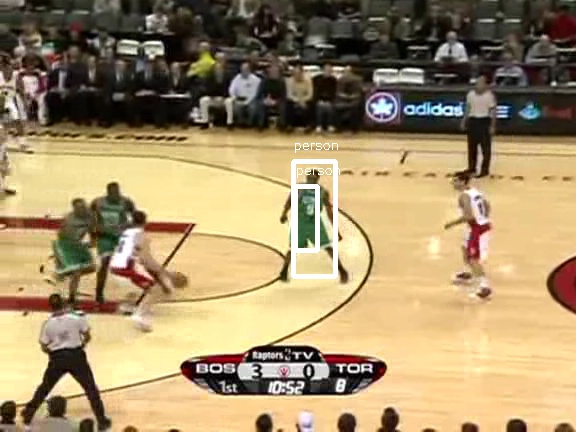person: (293, 178, 327, 259), (292, 178, 326, 259), (294, 178, 328, 259), (293, 177, 327, 258), (293, 179, 327, 260)
target_negative: (268, 54, 570, 369), (220, 53, 431, 290), (454, 217, 568, 313), (224, 363, 500, 378), (2, 314, 74, 340), (405, 419, 467, 423)
